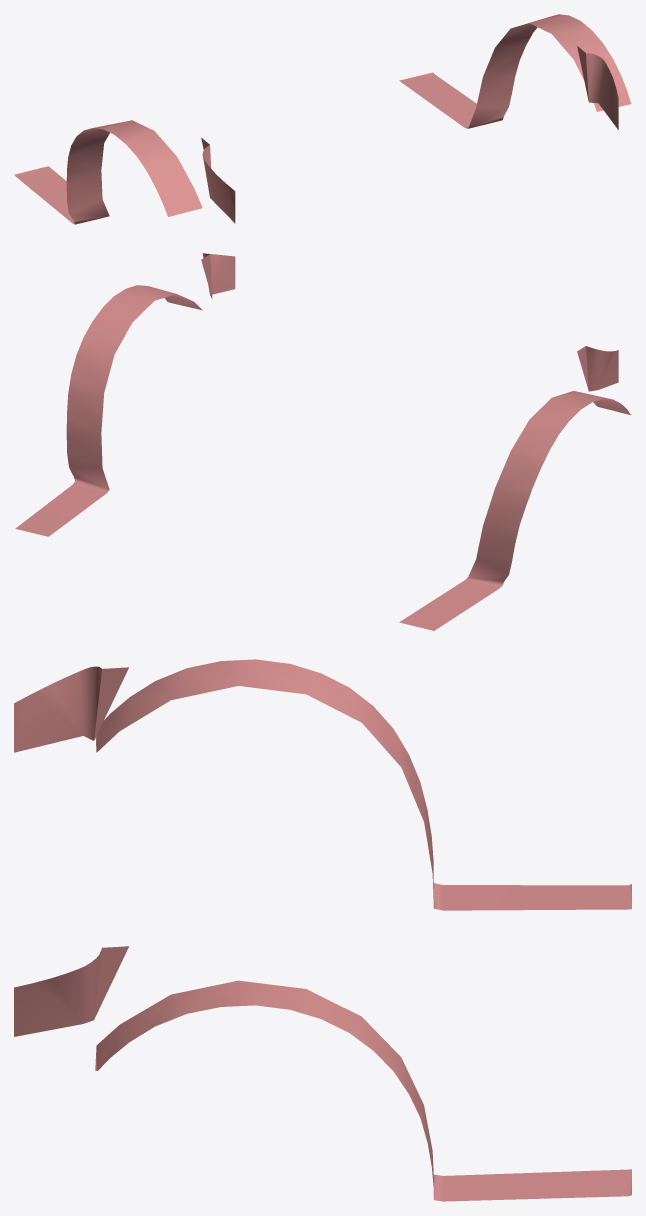
File: RX7_Fender01_Trim.fbx
The picture shows the model from 3 angles, top to bottom: view 1: azimuth 30°, elevation 25°; view 2: azimuth 150°, elevation 25°; view 3: azimuth 270°, elevation 25°; orthographic projection. The views are drawn at different scales.
Parts seen in each view (by area): view 1: RX7_Fender01_Trim; view 2: RX7_Fender01_Trim; view 3: RX7_Fender01_Trim.
Boxes of the visible parts, left/top/right/bottom form: RX7_Fender01_Trim: left=14, top=14, right=631, bottom=224; RX7_Fender01_Trim: left=15, top=253, right=631, bottom=630; RX7_Fender01_Trim: left=14, top=659, right=631, bottom=1201.
Size of the model in its own units: 169 by 53.98 by 128.
